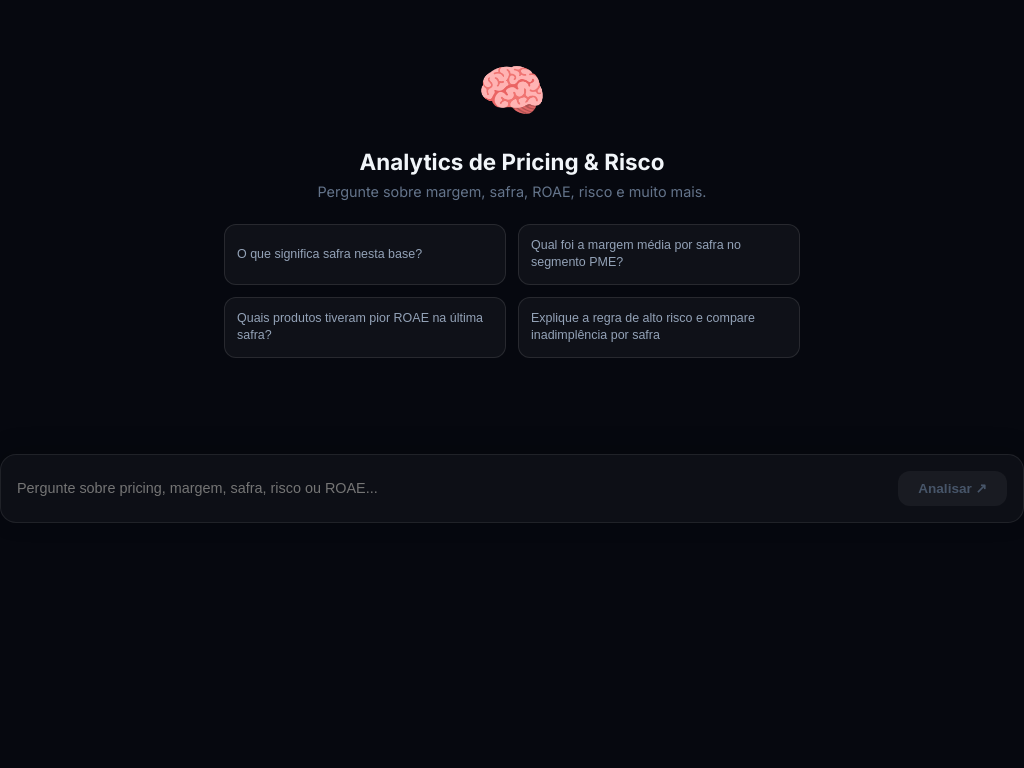
Test: ChatPanel › Tratamento de erro › exibe mensagem de erro quando API falha
Type "Qual a margem?" into the field.
click(452, 488); type("Qual a margem?")  # box [17,471,886,506]
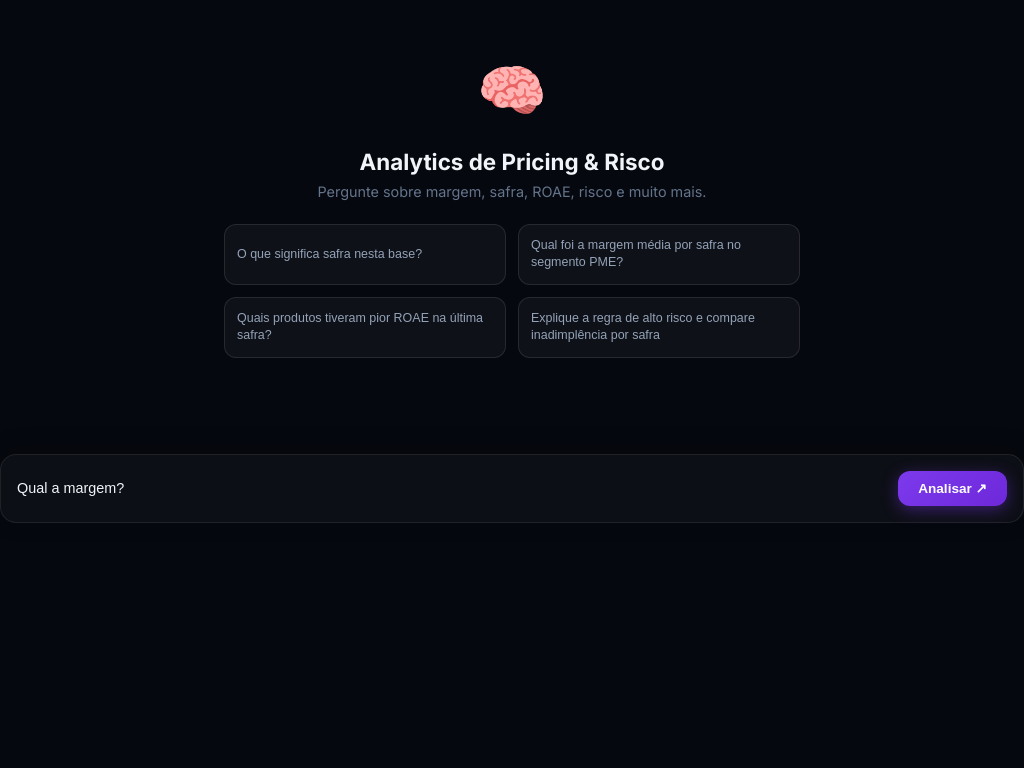
Click the button "Analisar ↗".
click(953, 488)  # box [898,471,1007,506]
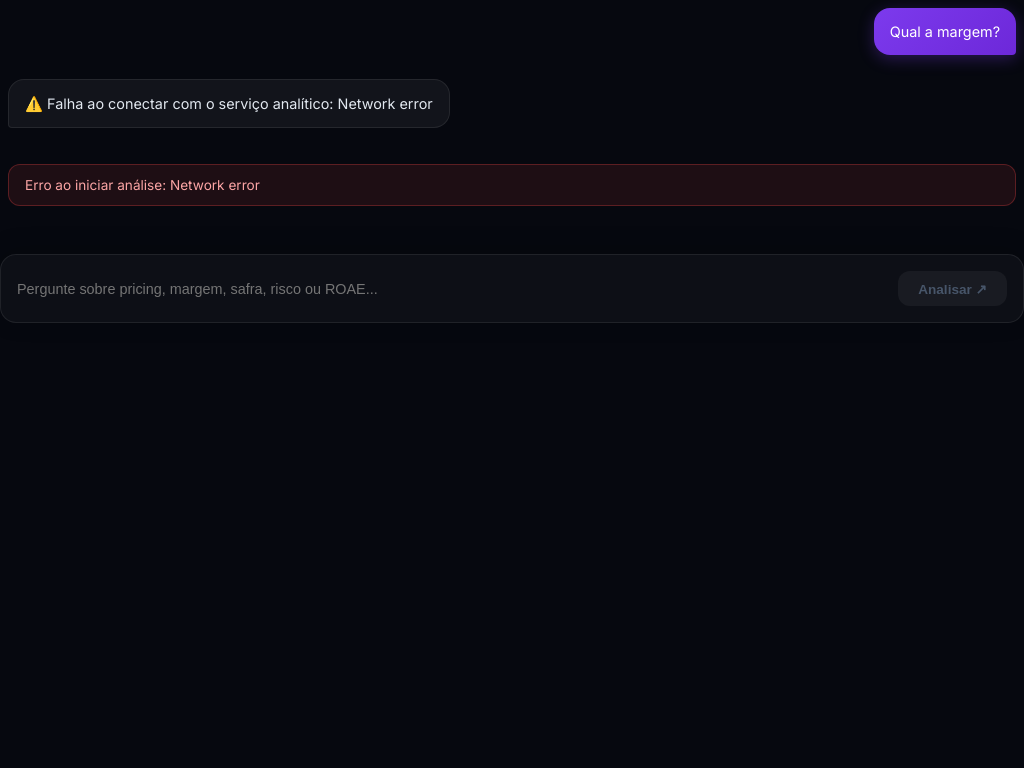
expect the text "Erro ao iniciar análise: Network error" is shown: met, box [8,164,1016,206]
